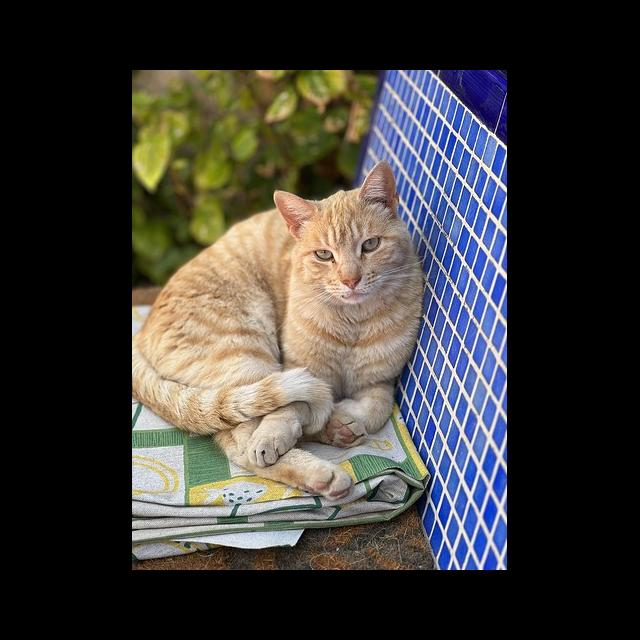animals: (132, 161, 422, 466)
